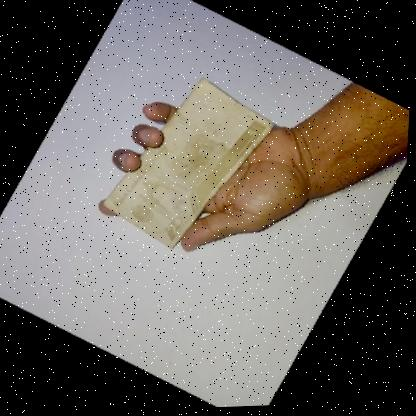five-back-vef: (94, 61, 289, 269)
